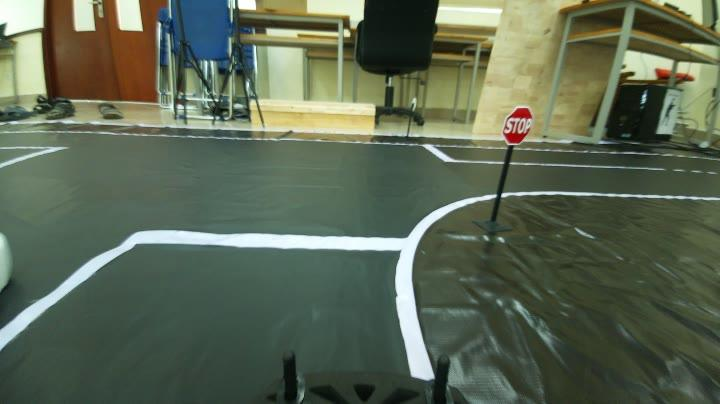stop: (502, 103, 540, 144)
